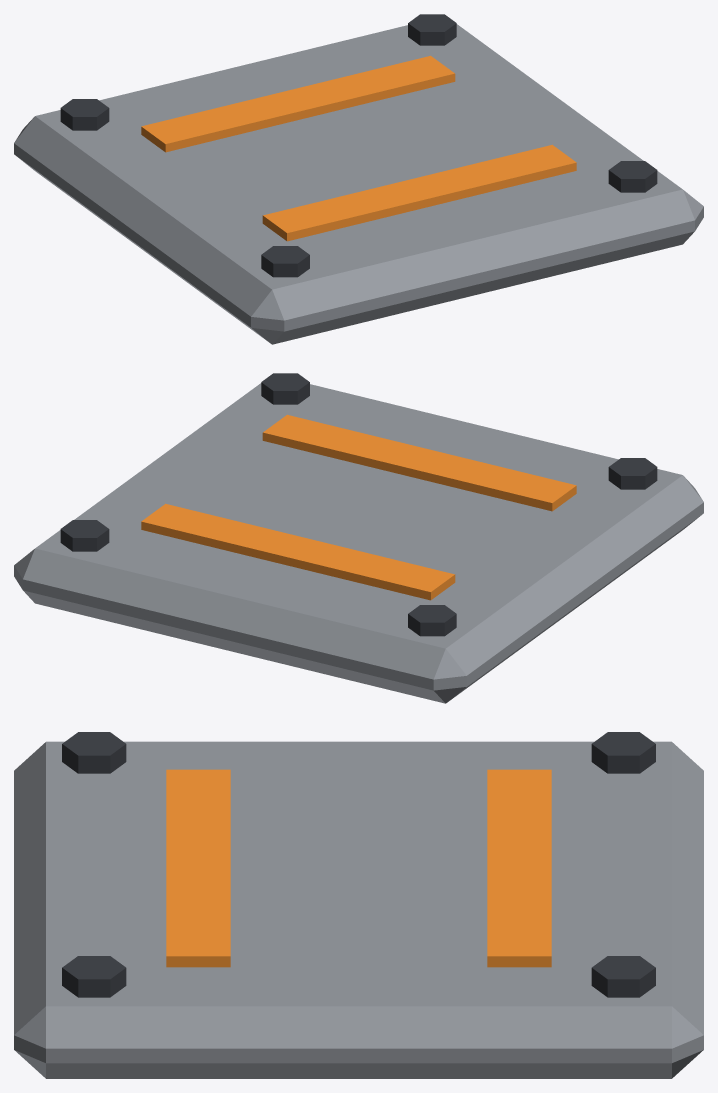
File: armor_plate.glb
3 views of the same model, one above another, from view 1: azimuth 30°, elevation 25°; view 2: azimuth 150°, elevation 25°; view 3: azimuth 270°, elevation 25° (orthographic). The views are drawn at different scales.
Visible parts, largest first — view 1: armor_plate; view 2: armor_plate; view 3: armor_plate.
Part boxes in pixels (<box>): armor_plate: <box>14,14,703,344</box>; armor_plate: <box>14,373,703,703</box>; armor_plate: <box>14,732,703,1078</box>.
Bounding box in the file's own units: 0.86 × 0.125 × 0.86.
